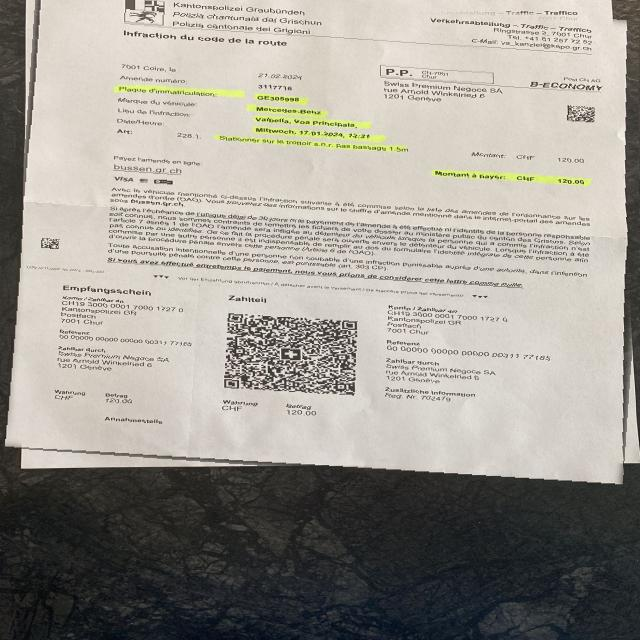paper-document-: (5, 0, 625, 486)
